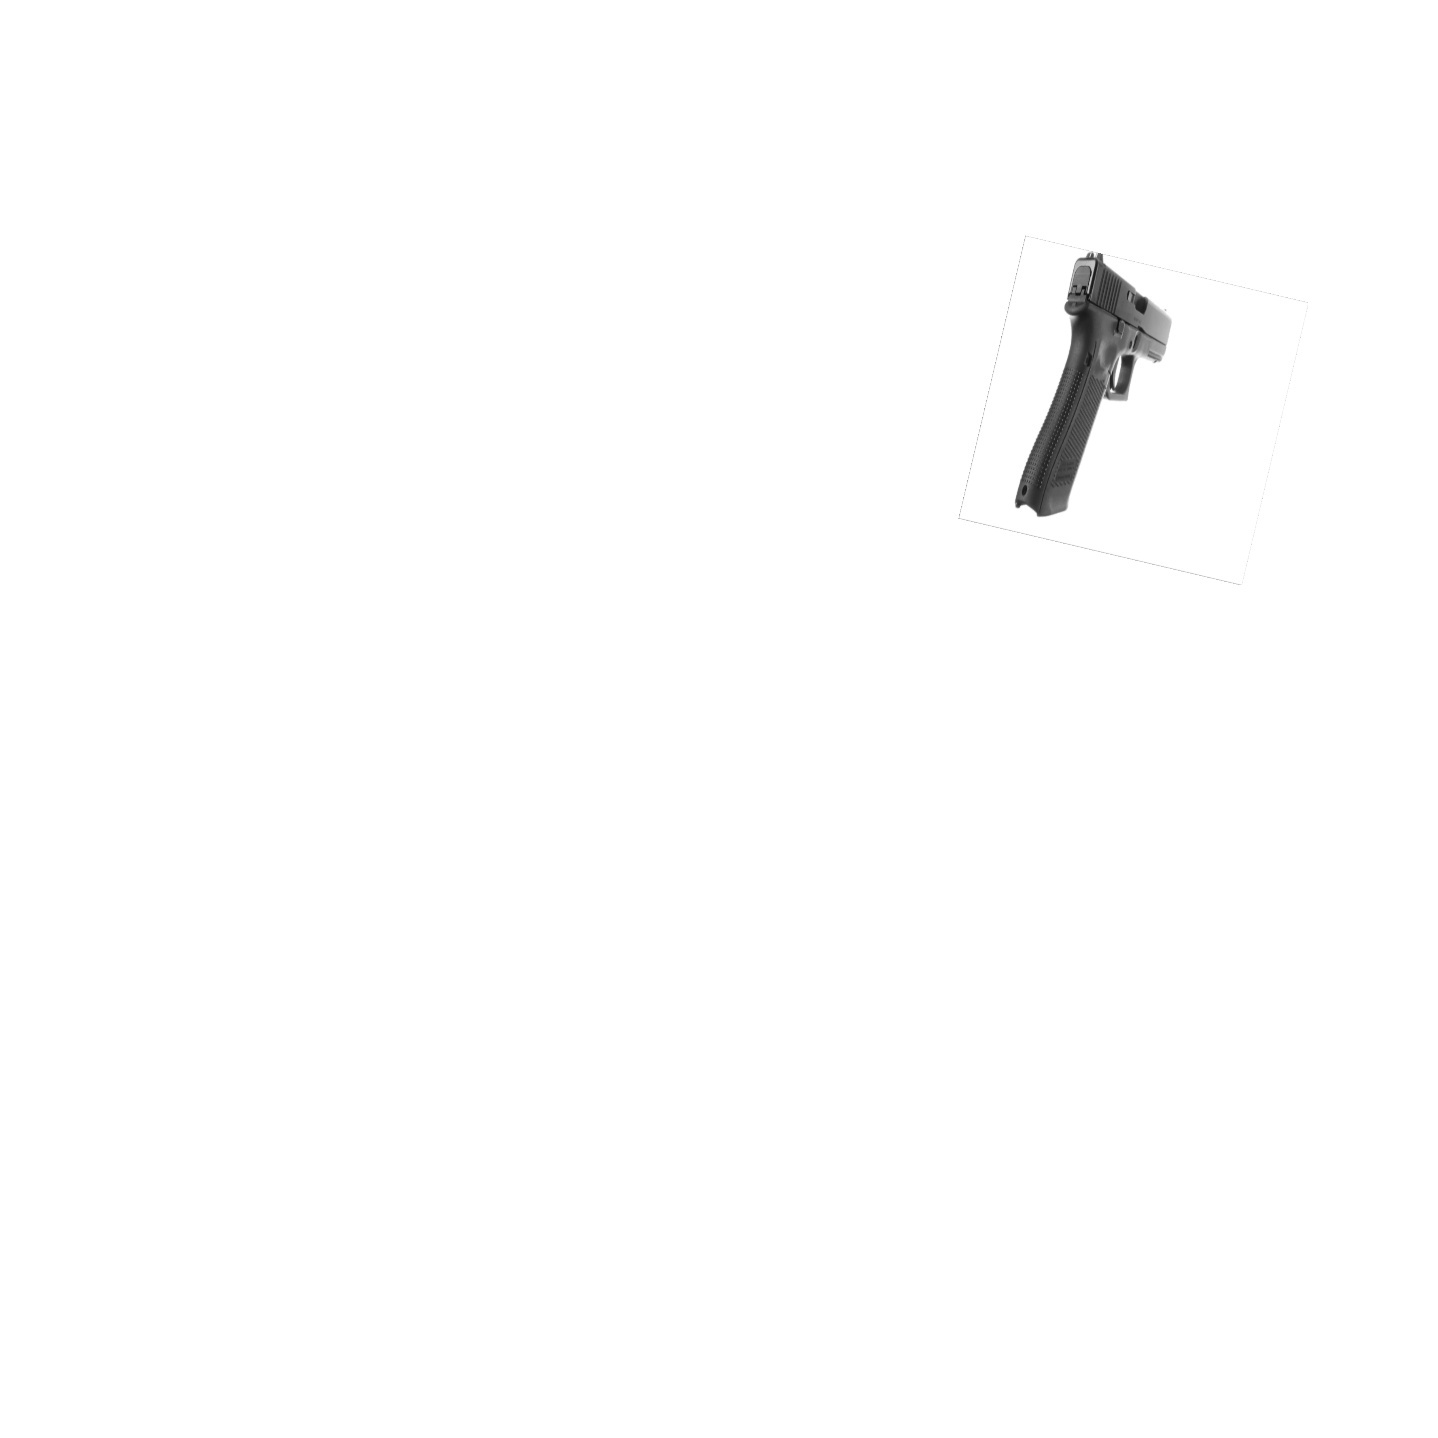gun: (1014, 252, 1172, 518)
